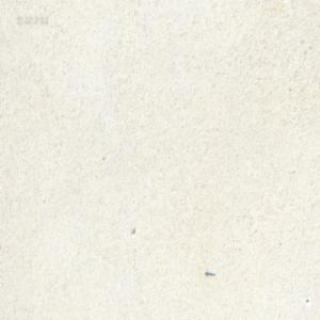Nailtrack_idkeyframe: (204, 268, 214, 275)
